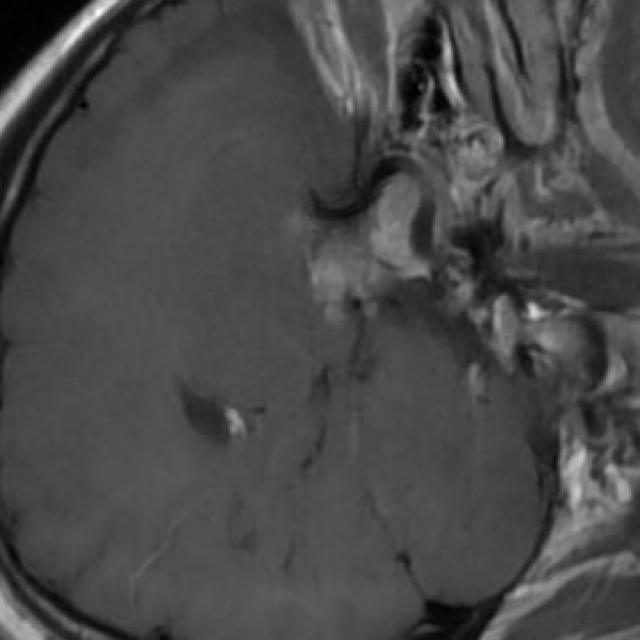pituitary: (291, 173, 430, 321)
